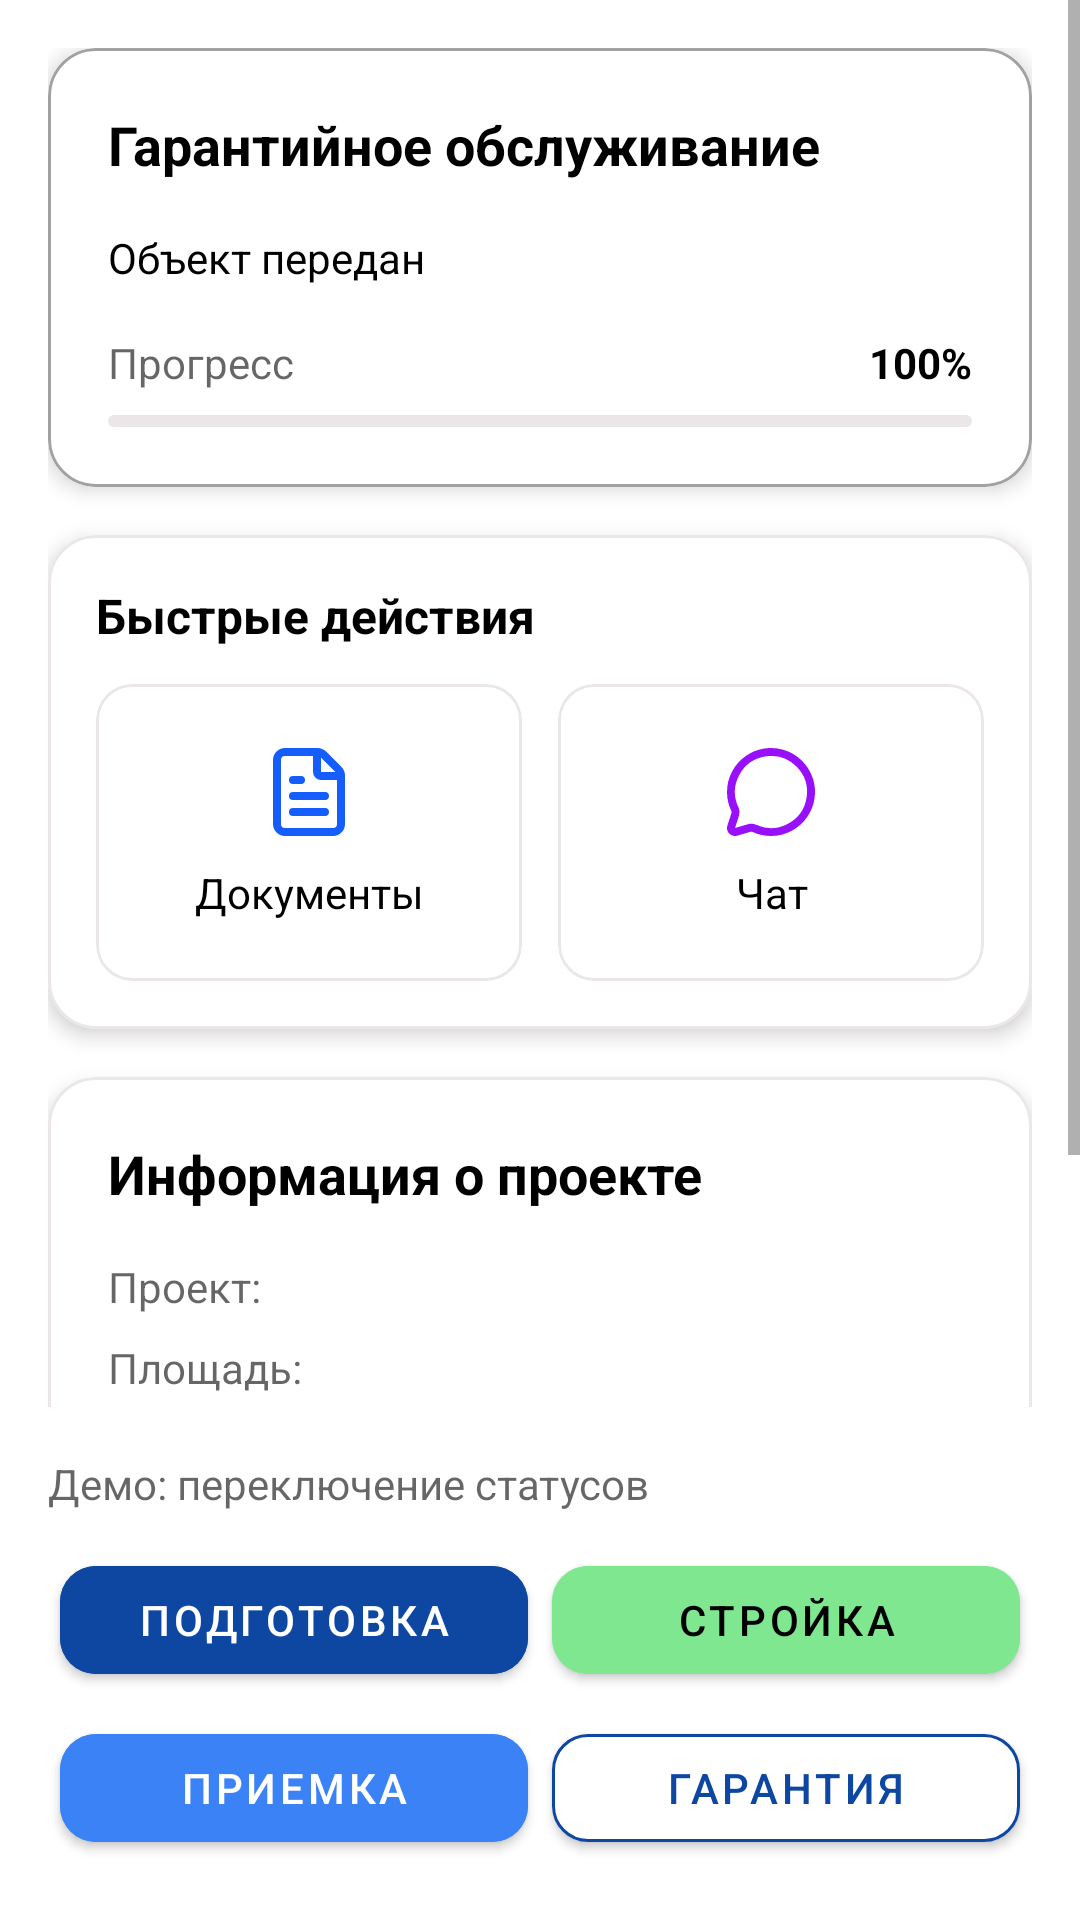

Locate icon controls on the screen. Image size 1080w x 1920h, boxes as (x1, y1, x2, y2).
chat: (727, 748, 815, 836)
document: (273, 748, 345, 836)
